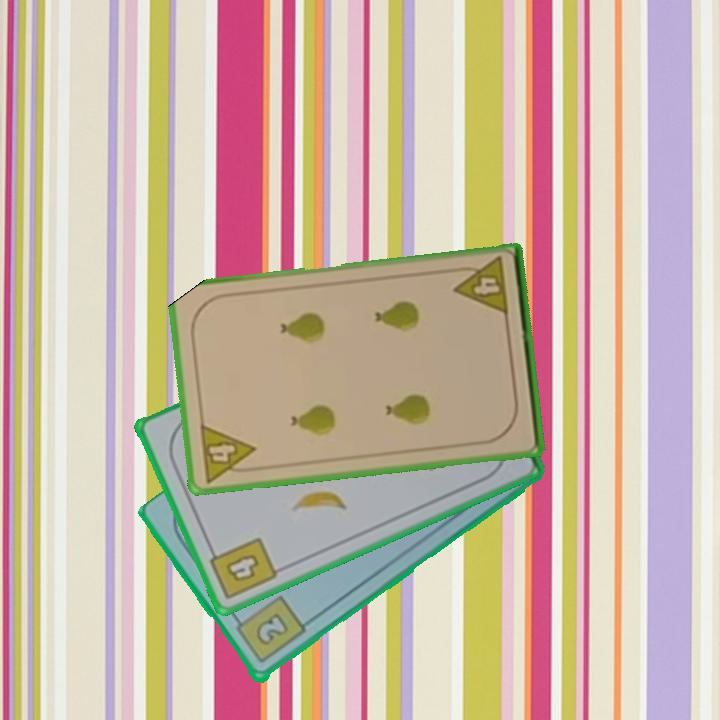2b: (230, 593, 308, 667)
4b: (204, 534, 280, 603)
4p: (196, 420, 260, 485), (449, 254, 511, 319)
